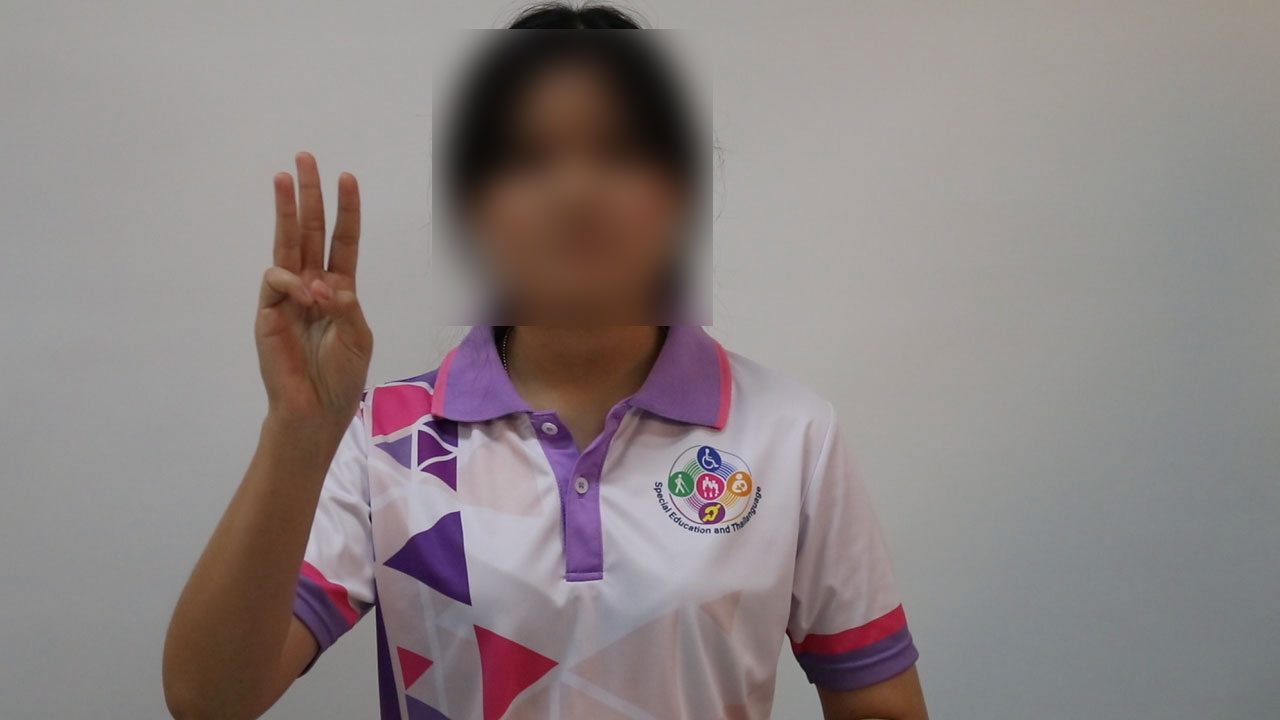wor: (243, 142, 394, 449)
